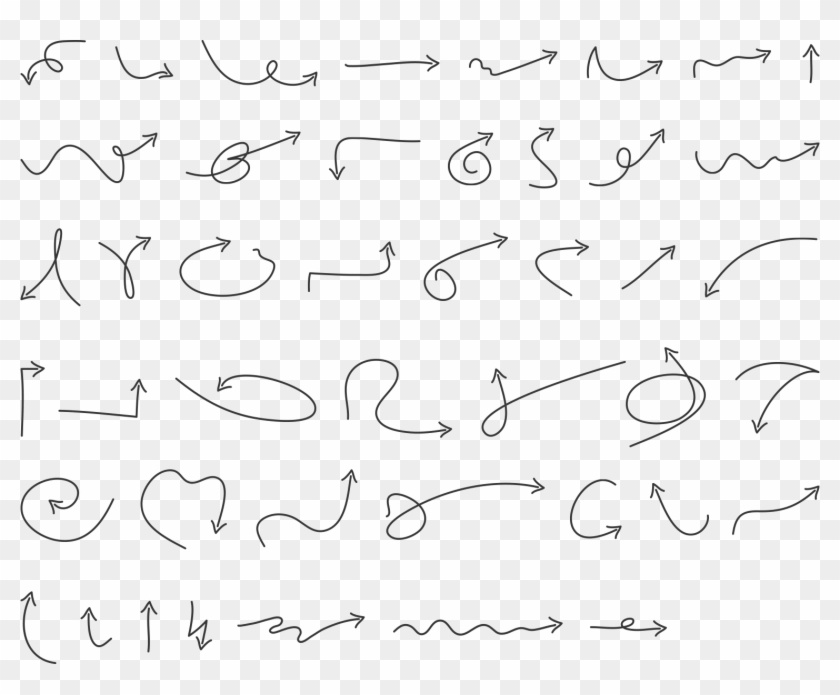arrow: (487, 473, 547, 502), (212, 366, 268, 397), (334, 469, 361, 522), (16, 589, 41, 646), (402, 416, 456, 442), (638, 241, 679, 275), (622, 56, 665, 88), (514, 46, 558, 75), (644, 480, 674, 522), (319, 145, 353, 182), (639, 126, 669, 167), (261, 127, 303, 156), (749, 394, 778, 436), (547, 237, 593, 263), (397, 50, 441, 77), (18, 269, 53, 302), (797, 38, 826, 77), (134, 598, 160, 641), (702, 262, 732, 299), (519, 614, 566, 637), (482, 363, 512, 399), (736, 44, 777, 70), (139, 60, 178, 87), (468, 231, 510, 256), (783, 138, 824, 163), (207, 494, 231, 535), (374, 239, 402, 274), (127, 128, 159, 158), (43, 490, 78, 517), (75, 607, 102, 641), (787, 483, 822, 509), (17, 59, 44, 92), (190, 235, 231, 256), (325, 613, 366, 634), (122, 232, 152, 260), (662, 345, 690, 373), (589, 521, 624, 543), (128, 375, 149, 411), (285, 68, 318, 90), (459, 131, 495, 151), (526, 126, 558, 146), (639, 618, 668, 640), (22, 357, 46, 380), (195, 624, 215, 651)
